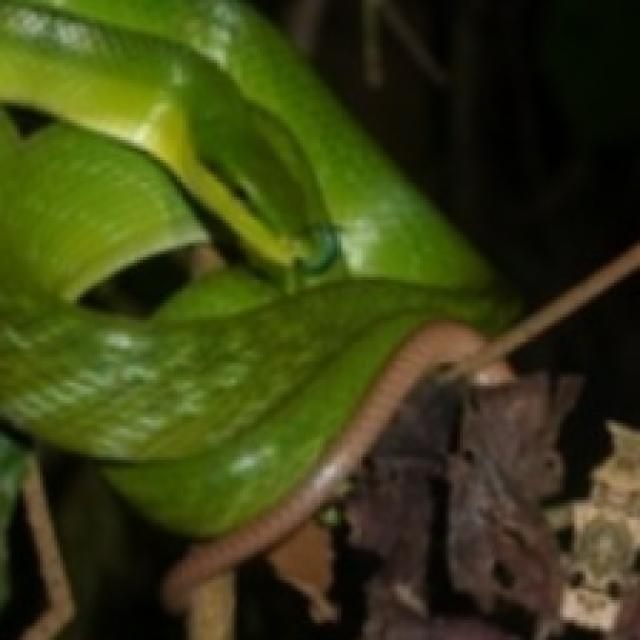red-tailed green ratsnake: (0, 0, 516, 607)
